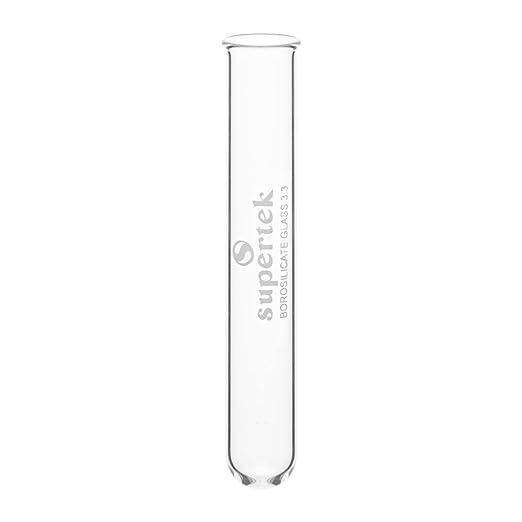Test tube: (205, 38, 312, 491)
